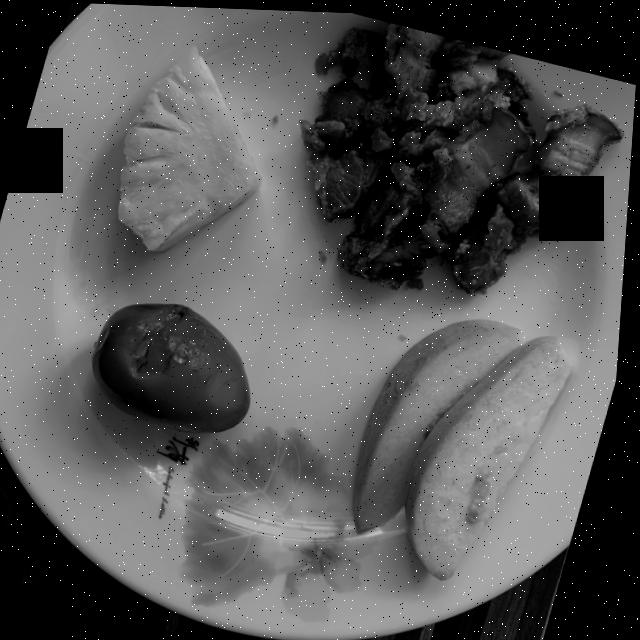coin: (0, 481, 18, 541)
guava -sliced-: (360, 315, 578, 576)
pineapple: (120, 44, 264, 250)
red grilled pork: (301, 19, 624, 288)
soy egg: (97, 302, 256, 431)
